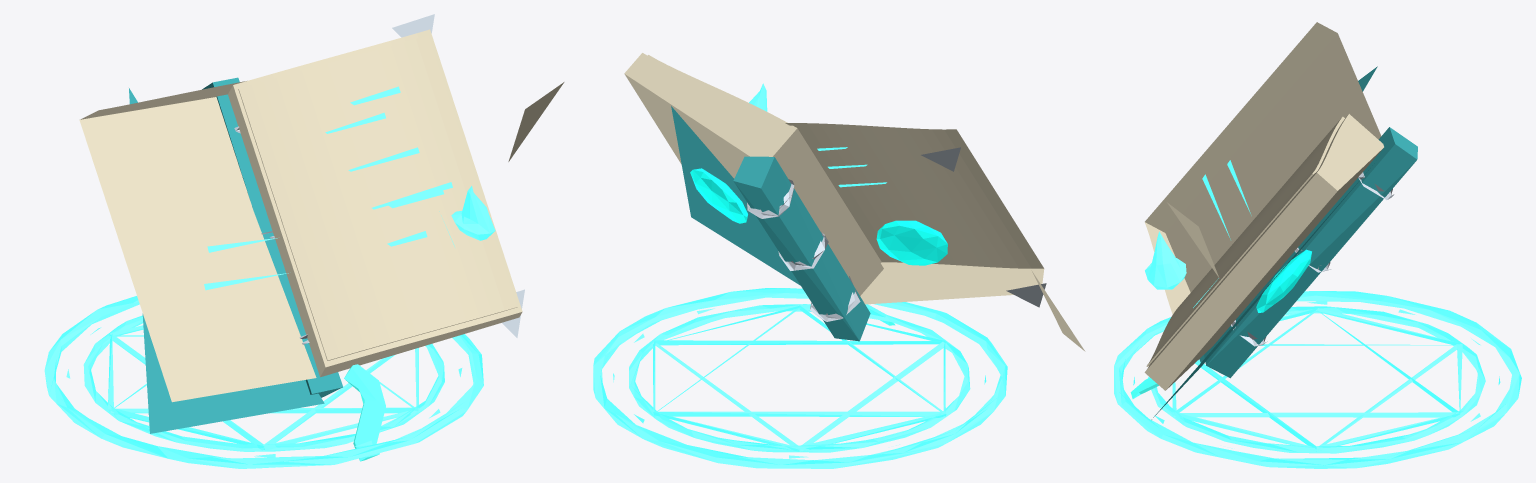
File: tome_2.glb
3 views of the same model, side by side, from view 1: azimuth 30°, elevation 25°; view 2: azimuth 150°, elevation 25°; view 3: azimuth 270°, elevation 25° (orthographic). The views are drawn at different scales.
Parts seen in each view (by area): view 1: Page__022, CoverL__002, CoverR__011, Circle__033, CoverL__001, Circle__034, Book__026, Book__032, Circle__035, Orbit__056, Orbit__054, Circle__039 (+1 smaller); view 2: CoverL__002, CoverR__011, Circle__033, Book__026, Circle__034, CoverR__010, CoverL__030, Circle__035, Circle__040, CoverR__031, Circle__036, Circle__037 (+4 smaller); view 3: CoverL__002, CoverR__011, Book__026, Circle__033, Page__022, Circle__034, Circle__035, Circle__041, Orbit__056, CoverR__031, Circle__036, Circle__038 (+4 smaller).
Part boxes in pixels (box(x1,y1,x2,y2)): Page__022: box(238, 35, 517, 360); CoverL__002: box(79, 81, 316, 402); CoverR__011: box(228, 29, 522, 377); Circle__033: box(44, 296, 483, 468); CoverL__001: box(129, 88, 324, 433); Circle__034: box(83, 315, 444, 451); Book__026: box(202, 77, 342, 397); Book__032: box(344, 364, 385, 461); Circle__035: box(108, 325, 418, 450); Orbit__056: box(451, 186, 495, 240); Orbit__054: box(508, 82, 564, 161); Circle__039: box(110, 407, 417, 413); CoverL__002: box(785, 123, 1044, 304); CoverR__011: box(624, 53, 883, 295); Circle__033: box(593, 288, 1007, 468); Book__026: box(733, 156, 870, 341); Circle__034: box(629, 304, 970, 452); CoverR__010: box(671, 106, 800, 285); CoverL__030: box(876, 220, 947, 265); Circle__035: box(653, 305, 946, 451); Circle__040: box(654, 411, 944, 416); CoverR__031: box(690, 168, 747, 223); Circle__036: box(654, 340, 944, 345); Circle__037: box(798, 341, 946, 450); CoverL__002: box(1144, 22, 1381, 314); CoverR__011: box(1144, 114, 1383, 390); Book__026: box(1204, 127, 1417, 378); Circle__033: box(1114, 291, 1521, 468); Page__022: box(1146, 116, 1344, 366); Circle__034: box(1148, 306, 1485, 453); Circle__035: box(1172, 308, 1462, 451); Circle__041: box(1173, 412, 1459, 417); Orbit__056: box(1145, 231, 1186, 289); CoverR__031: box(1256, 249, 1311, 312); Circle__036: box(1195, 360, 1316, 451); Circle__038: box(1314, 344, 1456, 449).
Bounding box in the file's own units: 0.3175 × 0.189 × 0.2346.
